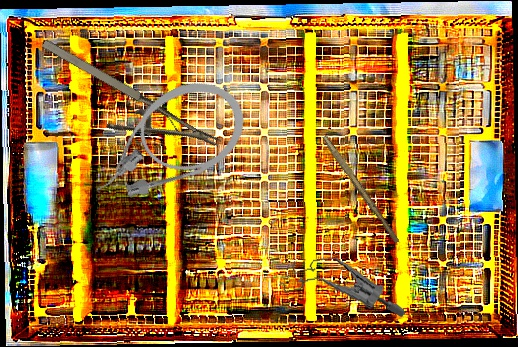Cannula: (72, 66, 259, 217)
Needle Holder: (23, 33, 222, 183)
Scalpel Handle: (318, 134, 403, 245)
Speculum: (275, 244, 406, 336)
